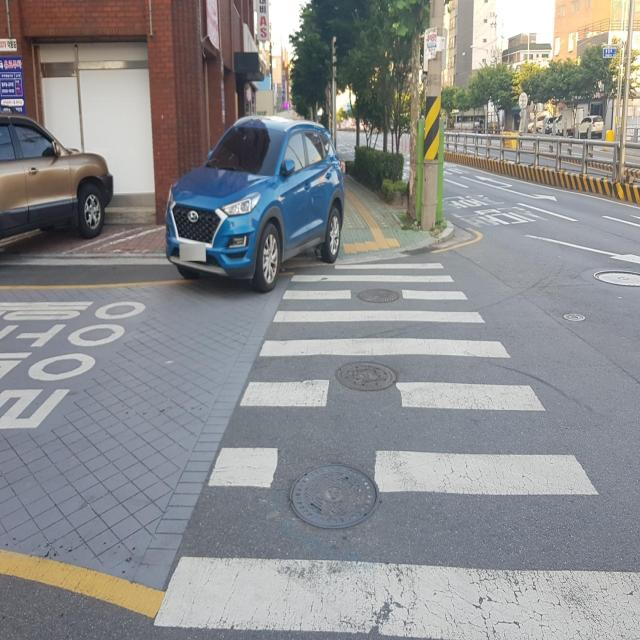횡단보도: (150, 251, 640, 639)
